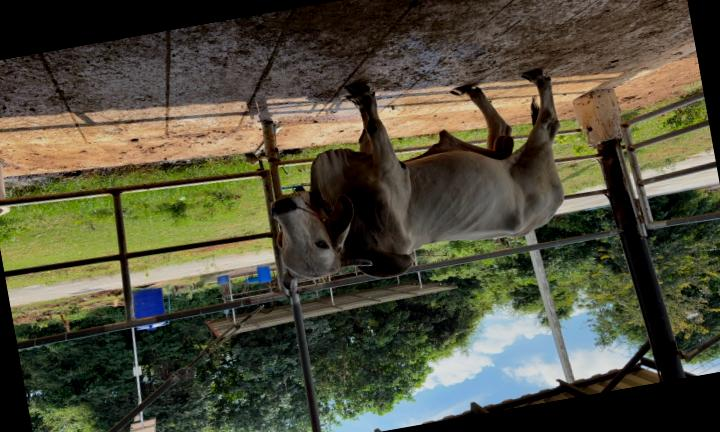Brahman: (272, 70, 563, 290)
